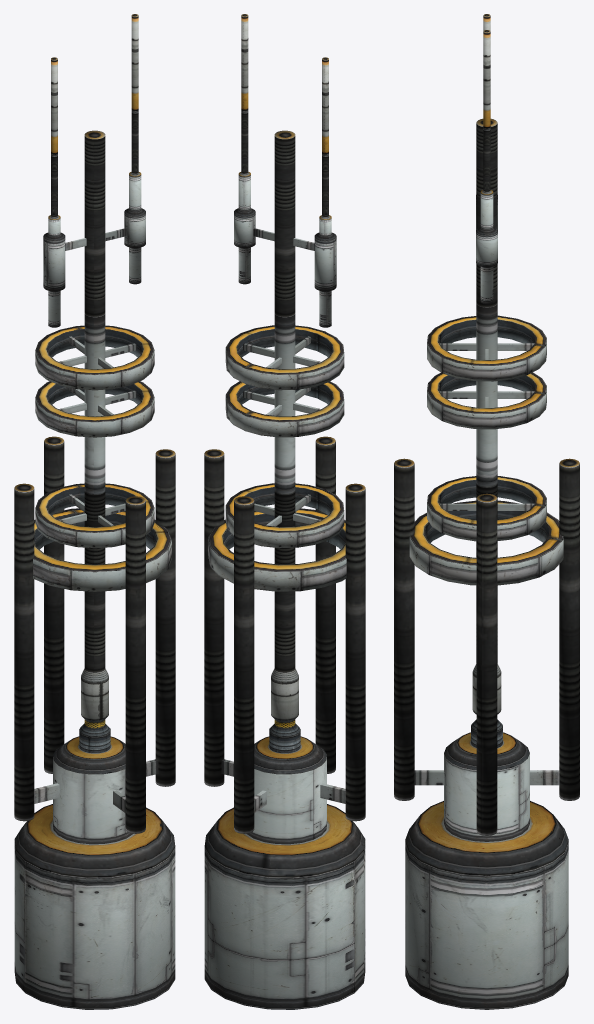
Rendered from antenaG.fbx.
3 renders of one model, left to right at view 1: azimuth 30°, elevation 25°; view 2: azimuth 150°, elevation 25°; view 3: azimuth 270°, elevation 25°, orthographic.
Visible parts, largest first — view 1: Cylinder; view 2: Cylinder; view 3: Cylinder.
Part boxes in pixels (left/top/right/bottom): Cylinder: left=14, top=14, right=175, bottom=1009; Cylinder: left=204, top=14, right=365, bottom=1009; Cylinder: left=394, top=14, right=579, bottom=1009.
Bounding box in the file's own units: 3.56 × 20.38 × 3.56.
